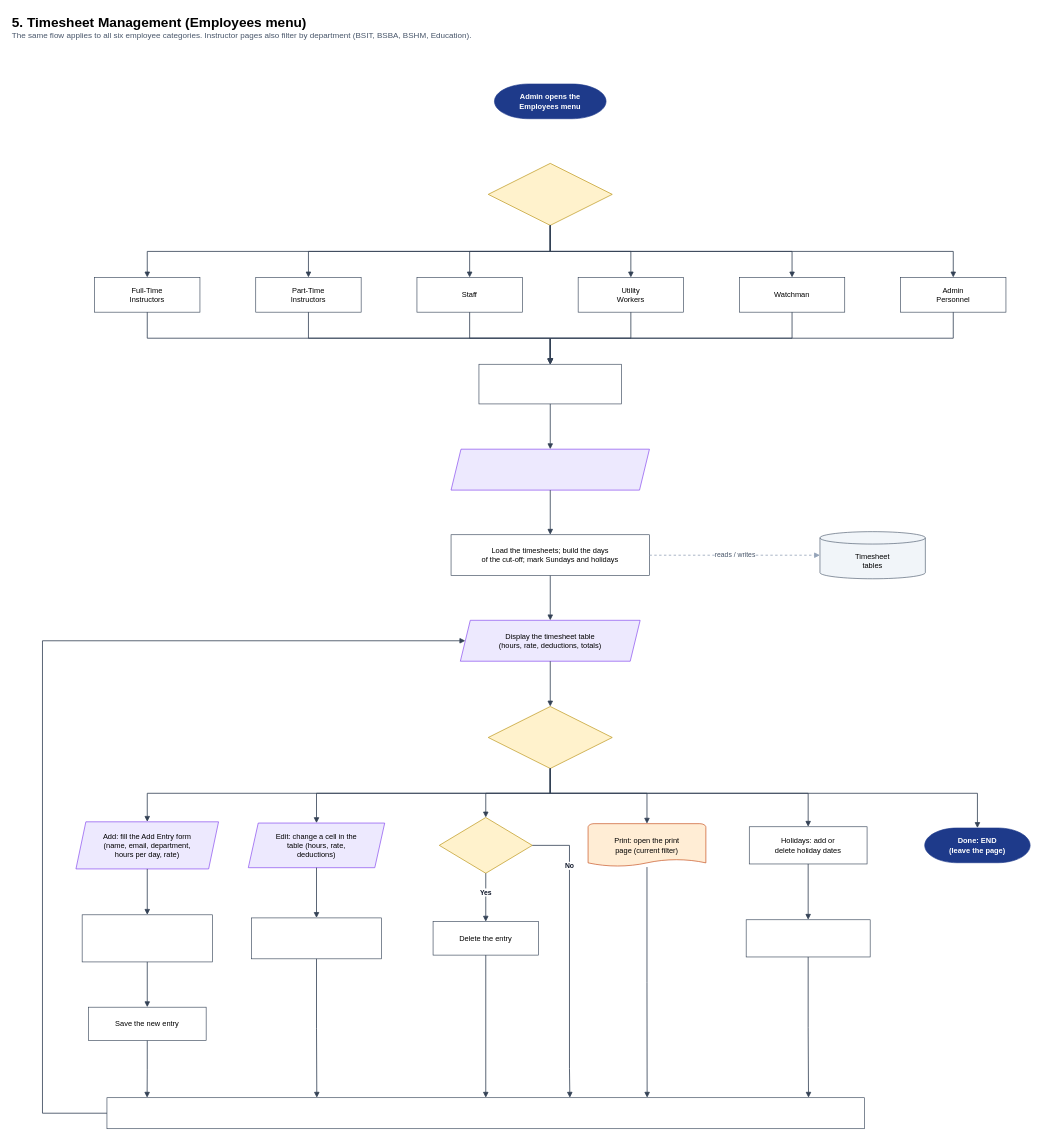
The diagram is 1053 pixels wide and 1140 high, and some of its shapes have lost their labels. The box of each missing label's shape, as (x1, y1, x2, y2) in pixels:
Auto-save and recompute totals and honorarium: (251, 917, 382, 959)
Choose an action: (488, 706, 612, 768)
Choose Month, Period (1–15 or 16–end), Year, and Department (instructors): (450, 449, 649, 490)
Compute total hours / days and honorarium (skip Sundays and holidays): (82, 914, 212, 962)
Delete: confirm?: (439, 817, 532, 873)
Holiday dates are left out of the computed days: (746, 919, 870, 957)
Open the category's timesheet page: (478, 364, 622, 404)
Refresh the timesheet table: (106, 1097, 865, 1129)
Select employee category: (488, 163, 612, 225)
